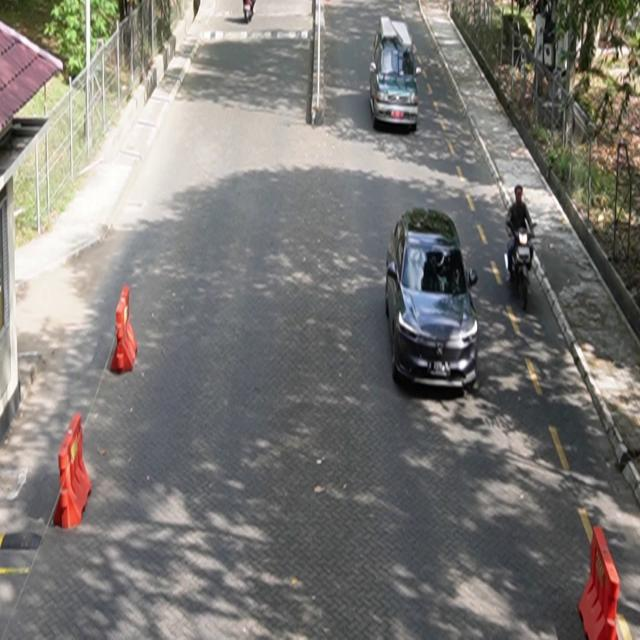car: (385, 208, 480, 394), (370, 17, 420, 133)
